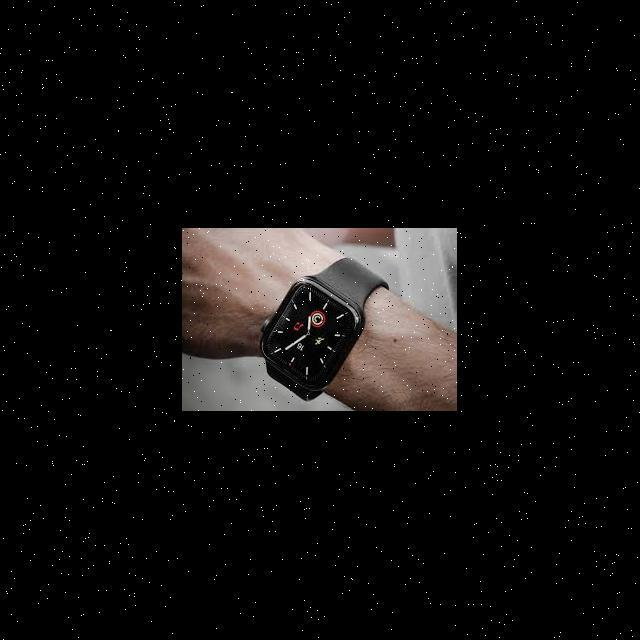watch: (263, 257, 395, 398)
